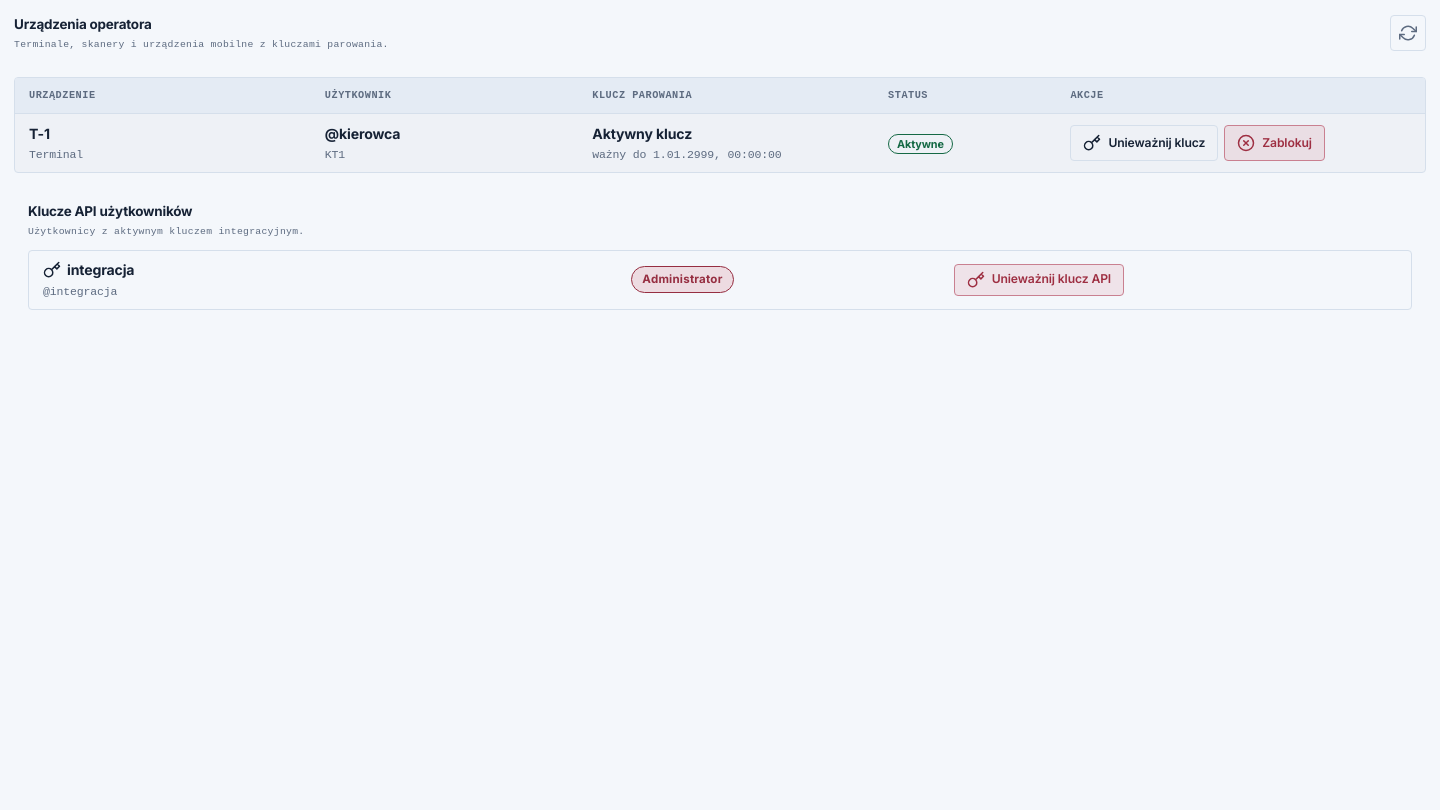
OperatorDevicesPanel › revokes device key after confirmation
The image size is (1440, 810).
Click the button "Unieważnij klucz" at (1144,143), box [1070, 125, 1218, 161]
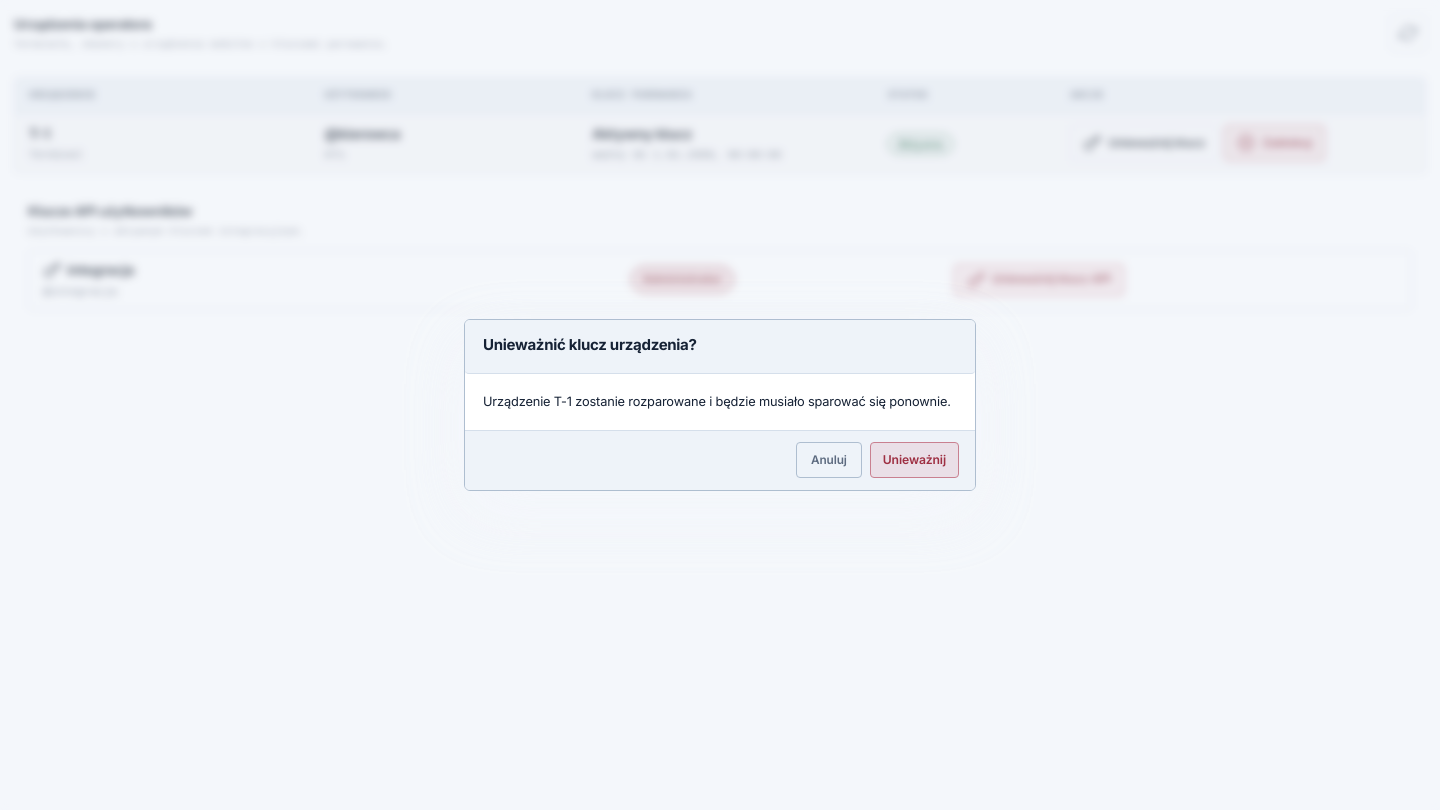
Click the button "Unieważnij" at (914,460), box [870, 442, 959, 478]
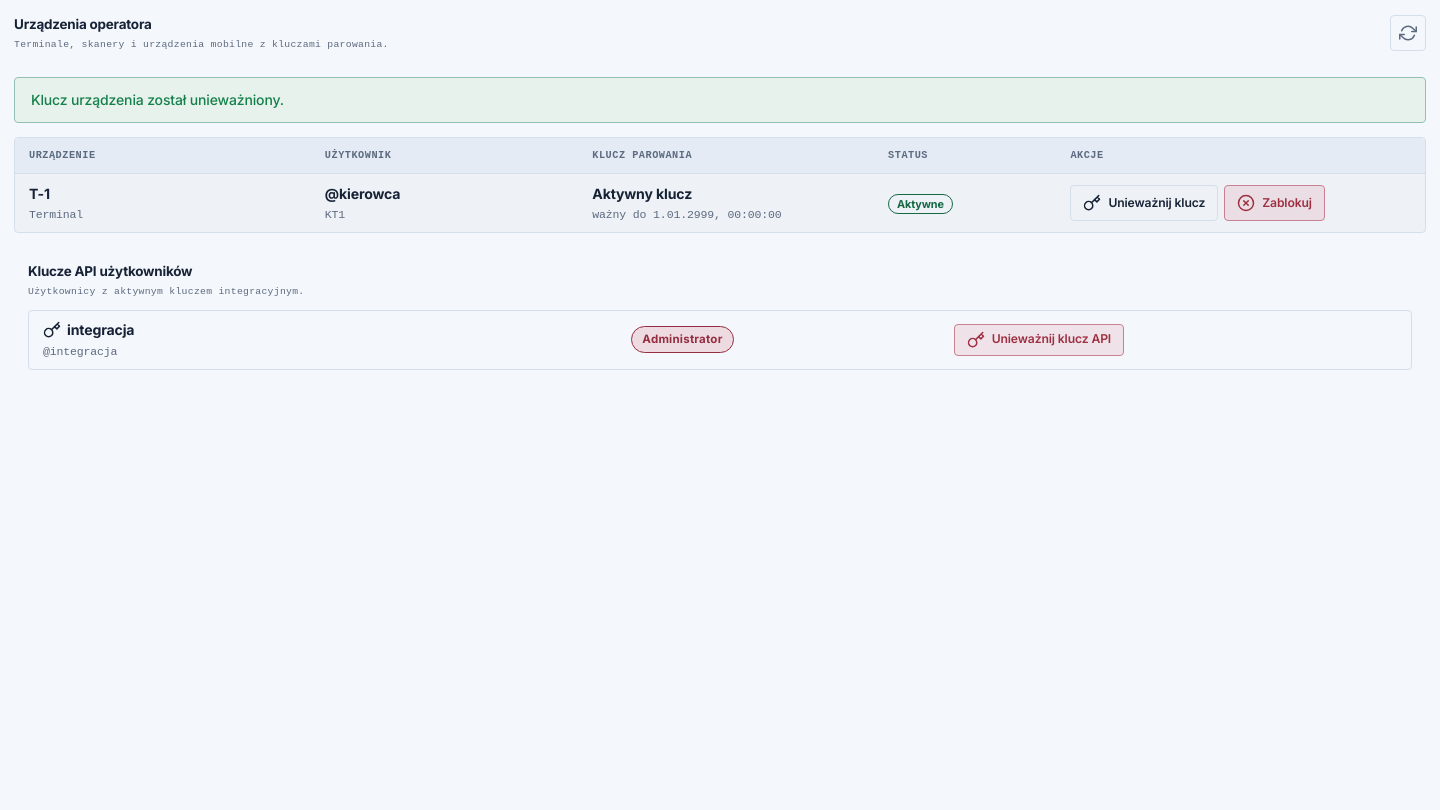
expect the text "Klucz urządzenia został unieważniony." is shown: met, box [31, 91, 284, 108]
